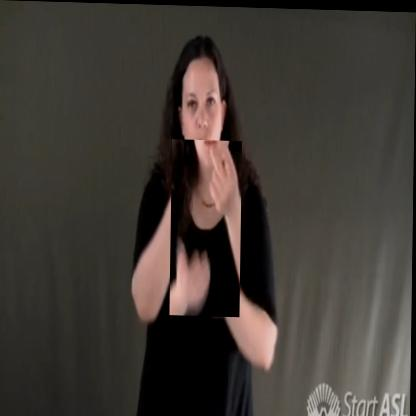HowAreYou: (170, 138, 242, 316)
